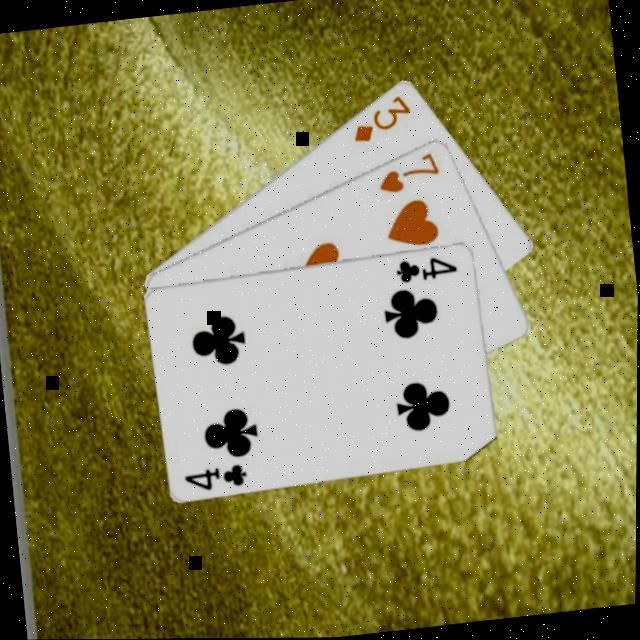3D: (348, 88, 419, 144)
4C: (182, 456, 254, 492), (394, 249, 464, 284)
7H: (374, 145, 446, 195)
